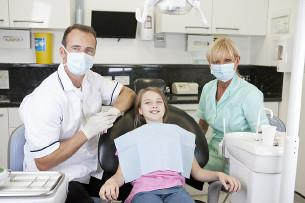NONE: (142, 97, 166, 120)
OK: (63, 44, 99, 77), (211, 55, 237, 82)
